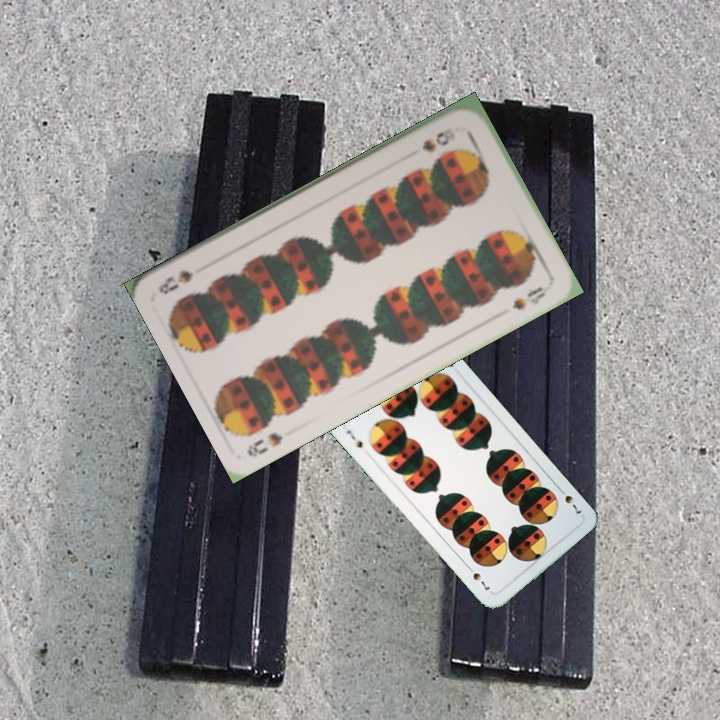S7: (554, 483, 584, 516), (342, 426, 366, 453)
S8: (243, 428, 286, 460), (417, 124, 458, 155)
